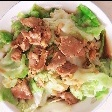juanxincairoupian: (0, 3, 112, 112)
